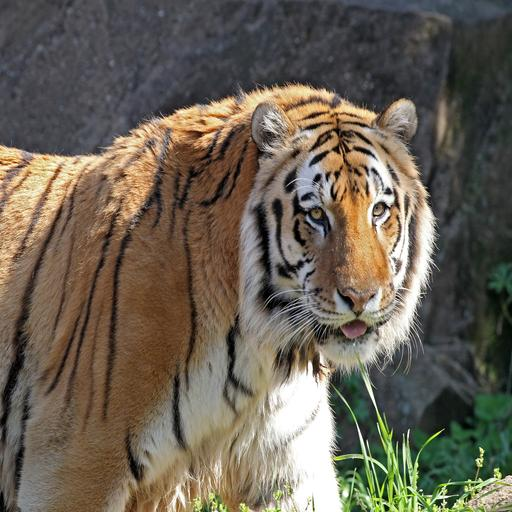Tiger: (0, 80, 443, 512)
